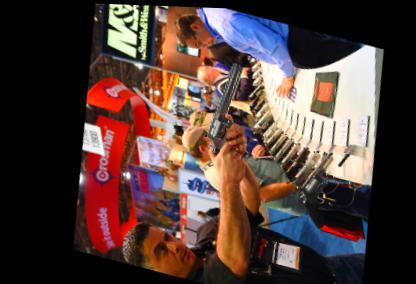pistol: (186, 54, 256, 168)
